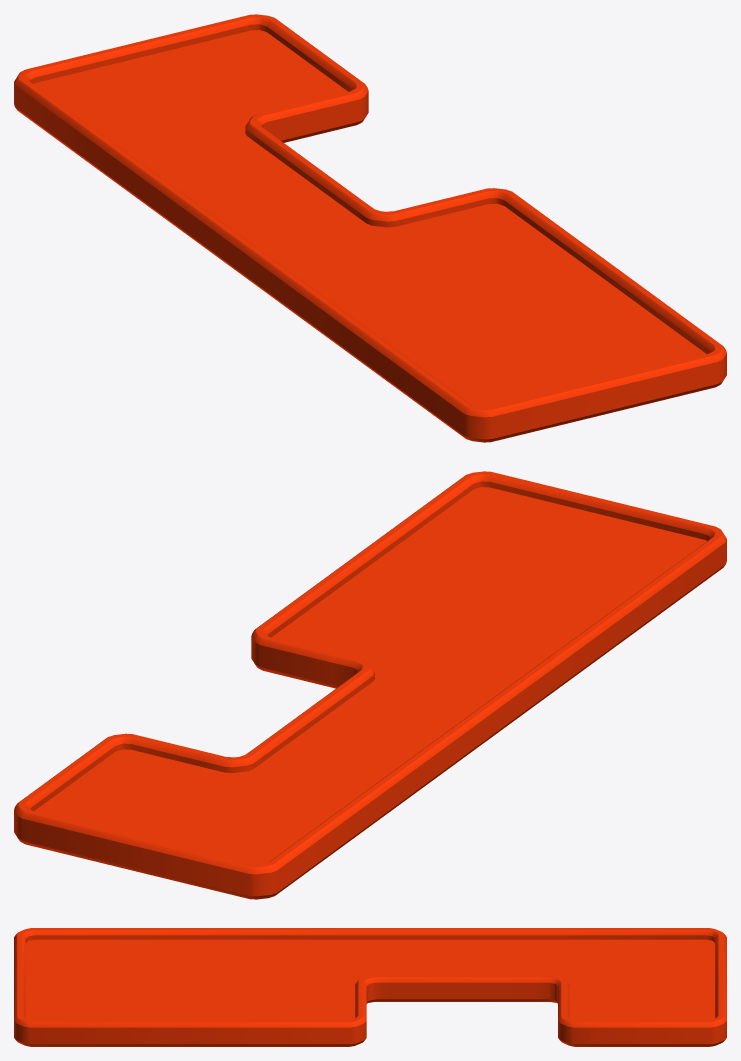
File: testing.FBX
The picture shows the model from 3 angles, top to bottom: view 1: azimuth 30°, elevation 25°; view 2: azimuth 150°, elevation 25°; view 3: azimuth 270°, elevation 25°; orthographic projection. The views are drawn at different scales.
Visible parts, largest first — view 1: testing; view 2: testing; view 3: testing.
Part boxes in pixels (x1,y1,x2,y2): testing: (14,14,726,442); testing: (14,471,726,899); testing: (14,928,726,1046).
Bounding box in the file's own units: 823 × 96.71 × 2556.
